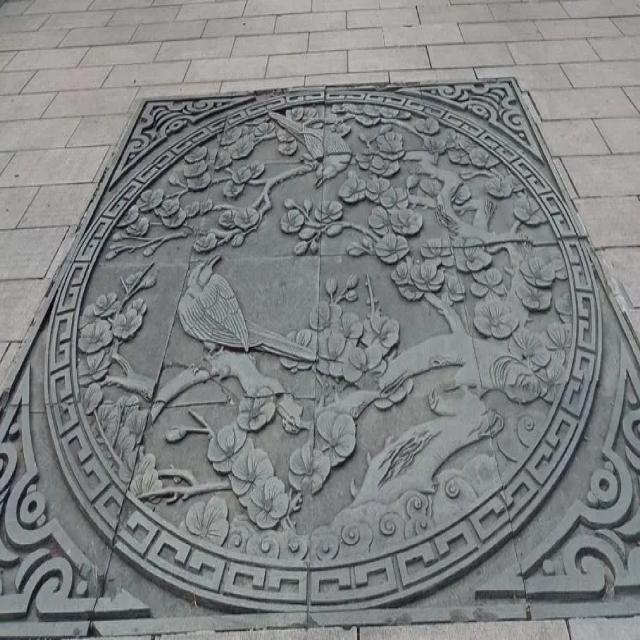manhole: (0, 78, 640, 636)
